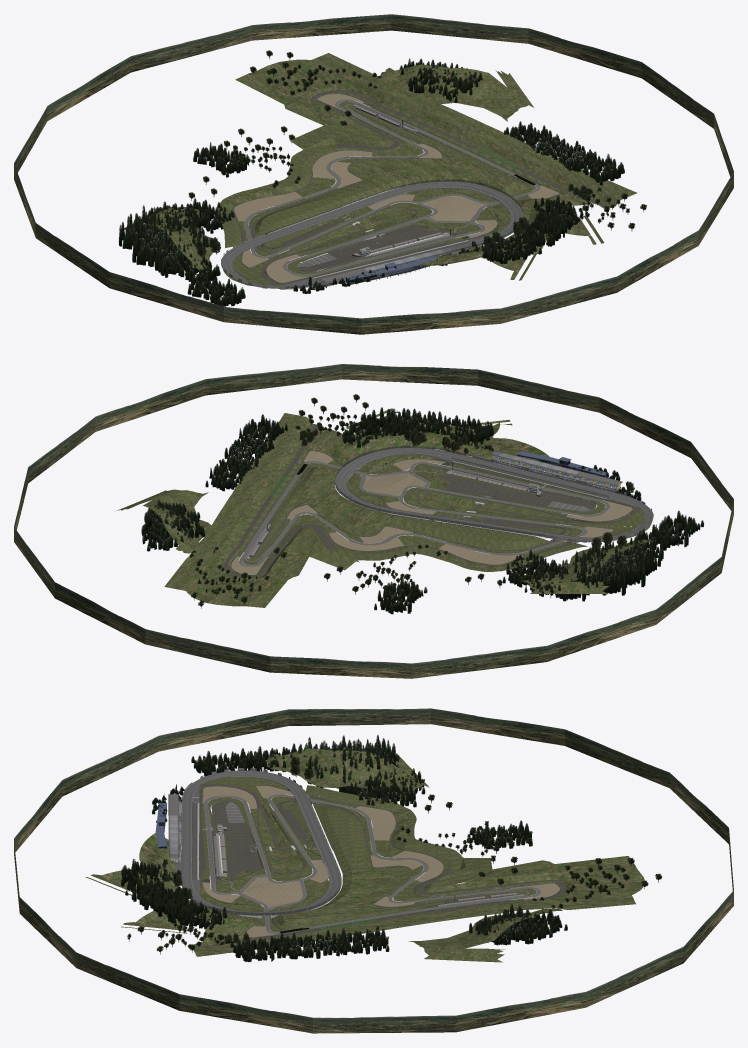
Rendered from motegi.glb.
The picture shows the model from 3 angles, top to bottom: view 1: azimuth 30°, elevation 25°; view 2: azimuth 150°, elevation 25°; view 3: azimuth 270°, elevation 25°; orthographic projection. The views are drawn at different scales.
Parts seen in each view (by area): view 1: twin_0; view 2: twin_0; view 3: twin_0.
Part boxes in pixels (x1=…): twin_0: x1=14, y1=14, x2=733, y2=334; twin_0: x1=14, y1=364, x2=733, y2=678; twin_0: x1=14, y1=708, x2=733, y2=1033.
Size of what is drawn, in the model's own units: 2144 by 160 by 2109.
77 materials, 77 textured.
